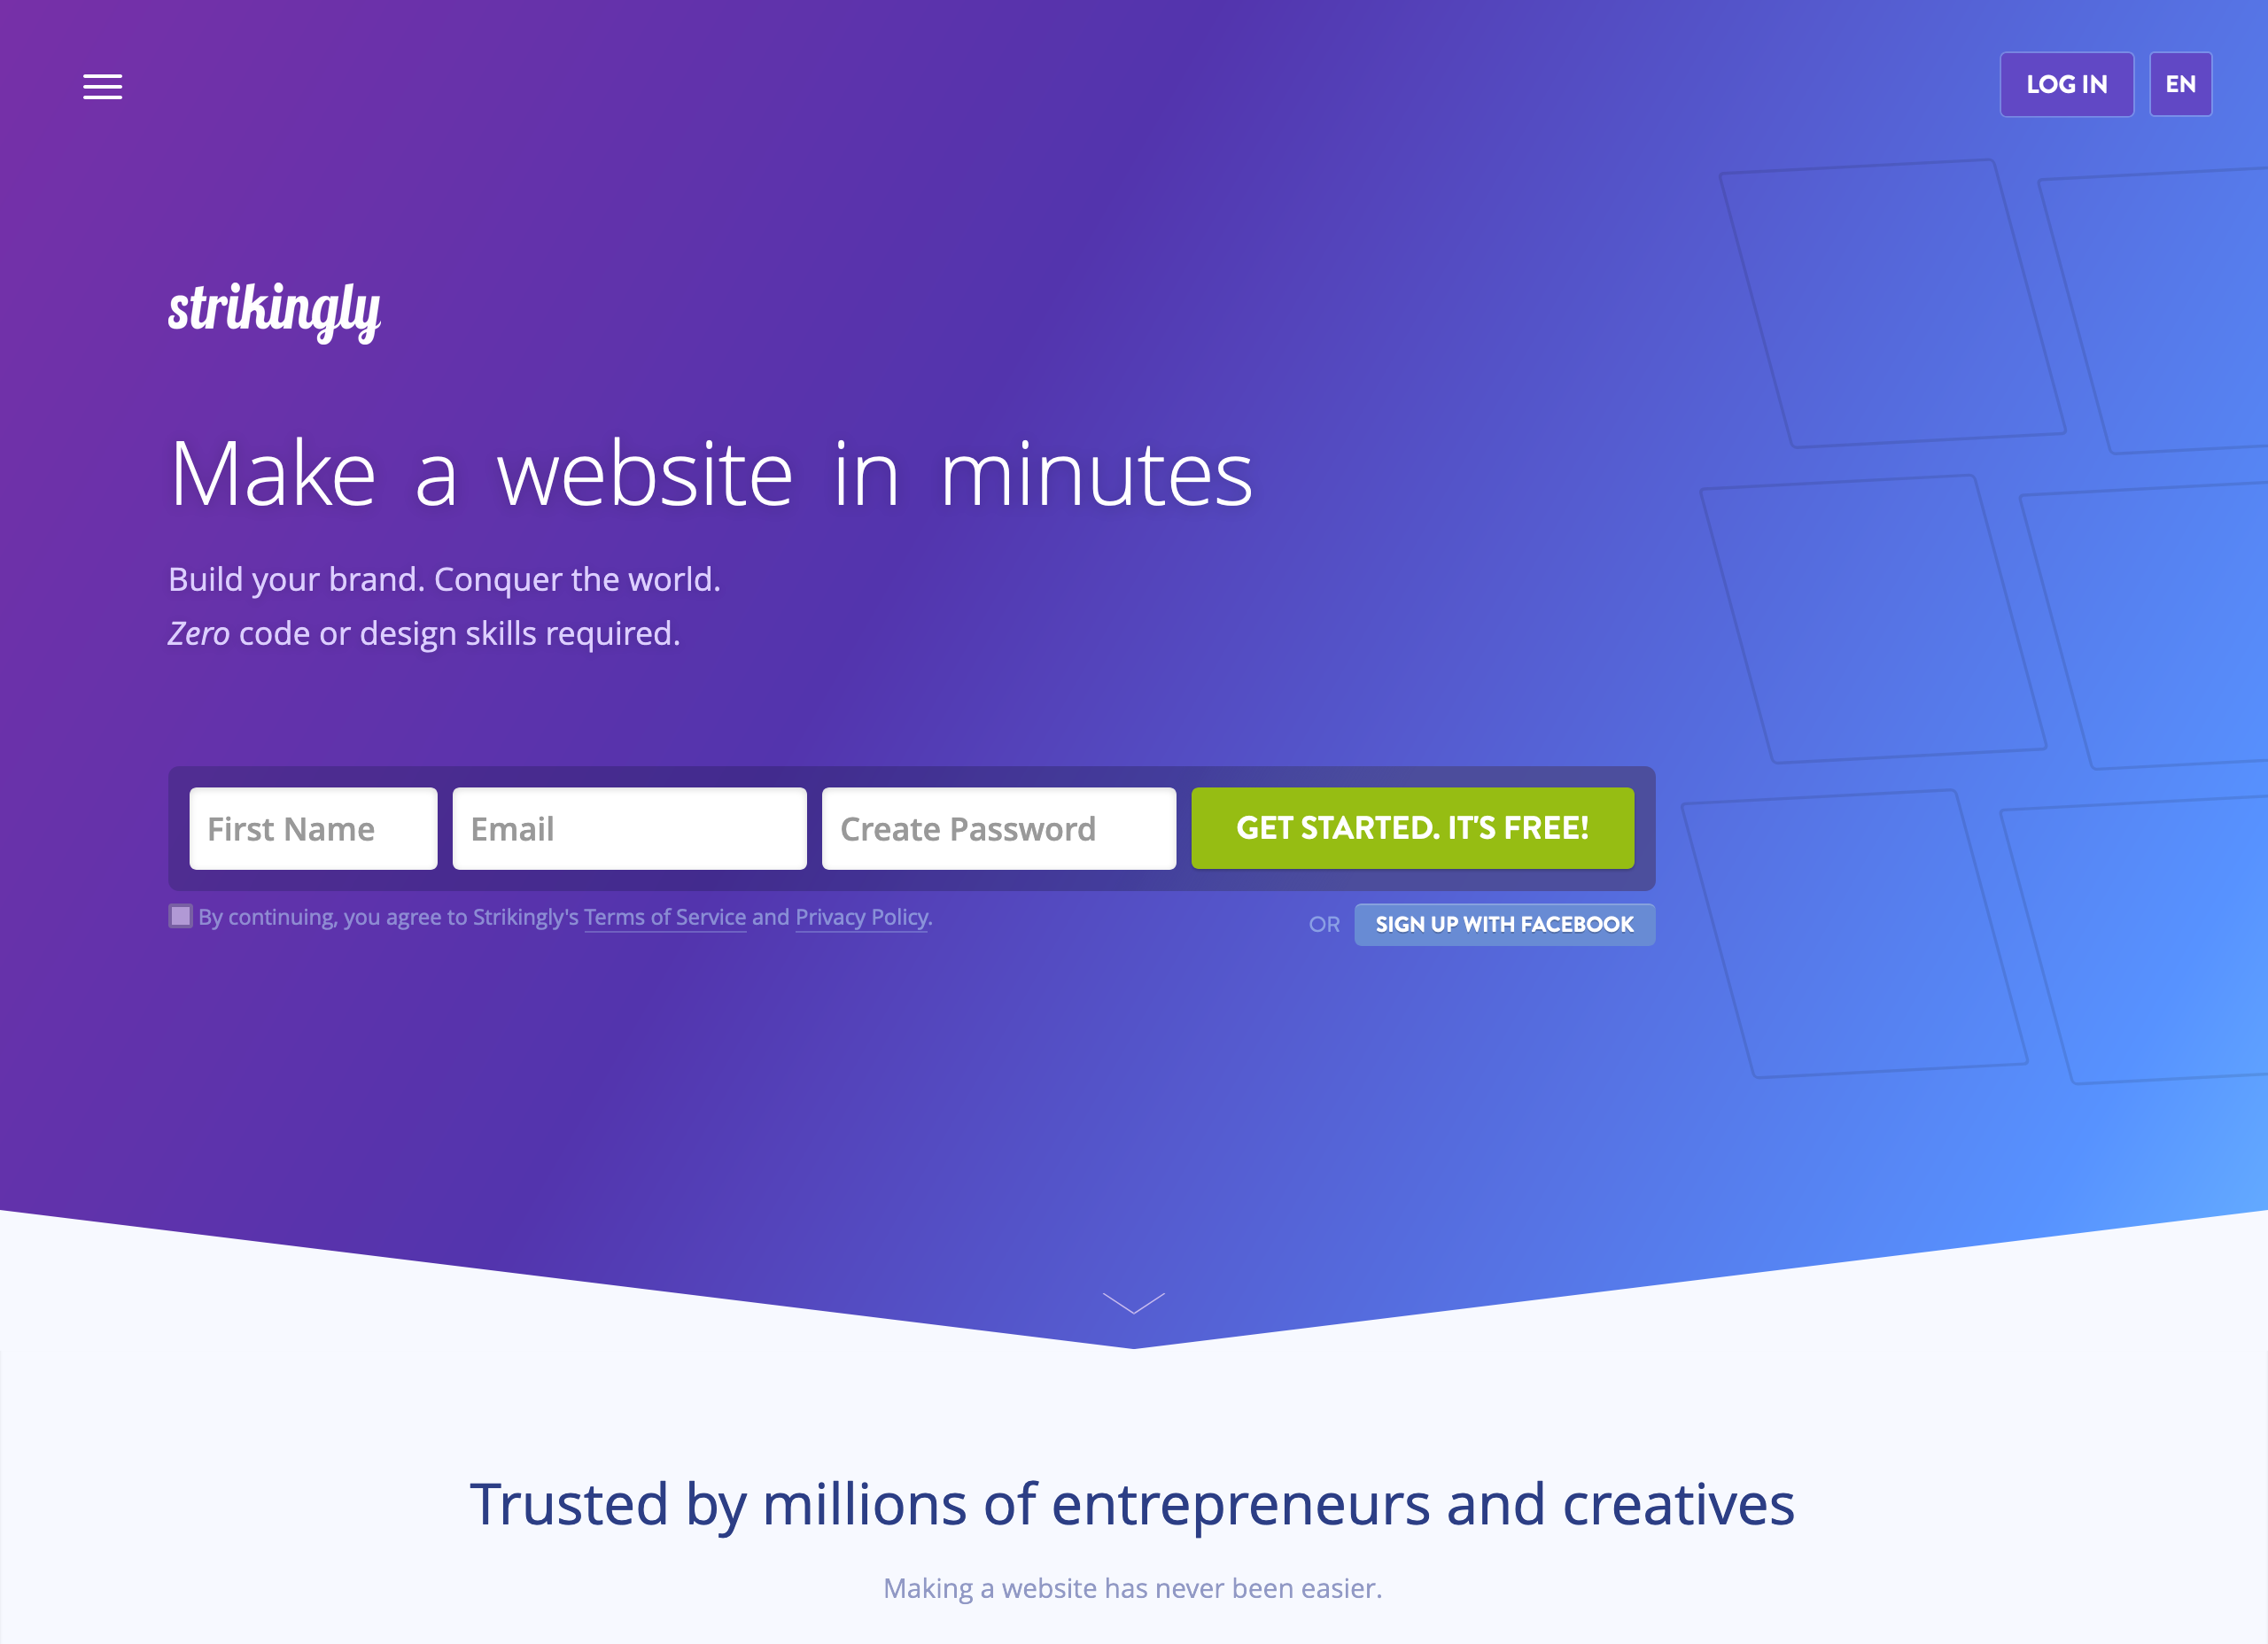Login: (1992, 35, 2141, 127)
